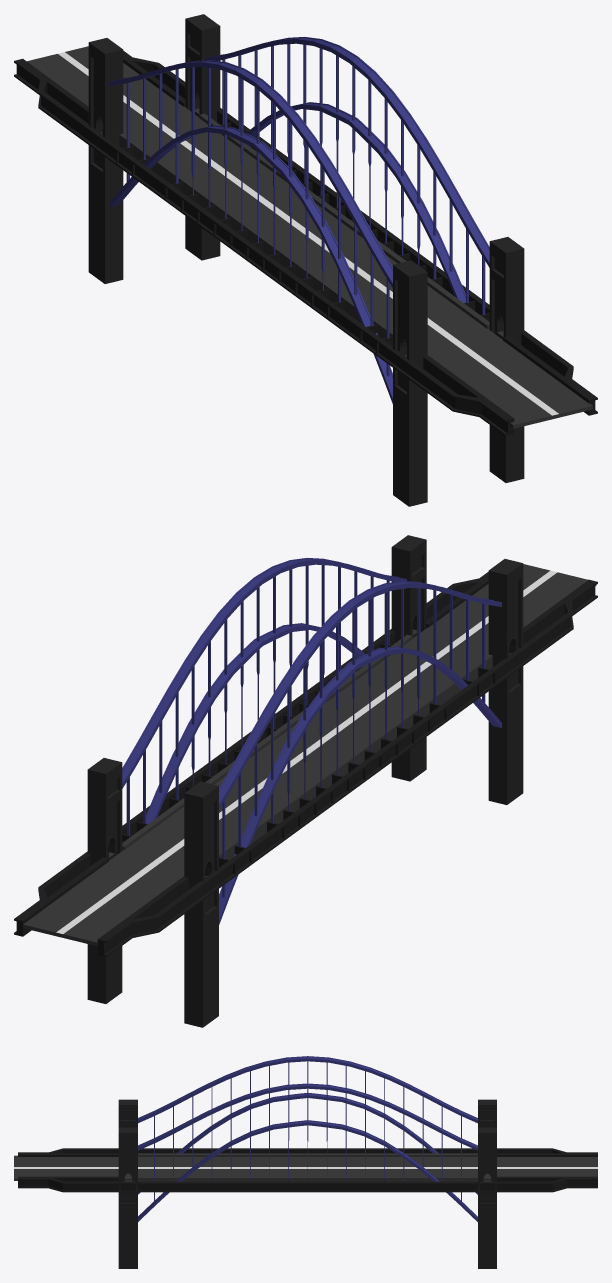
Rendered from bridge_2.fbx.
The picture shows the model from 3 angles, top to bottom: view 1: azimuth 30°, elevation 25°; view 2: azimuth 150°, elevation 25°; view 3: azimuth 270°, elevation 25°; orthographic projection. The views are drawn at different scales.
Parts seen in each view (by area): view 1: polySurface2093, polySurface2097, polySurface1775, polySurface2138, polySurface2098, polySurface2094, polySurface2106, polySurface2218, polySurface2090, polySurface2214, polySurface2217, polySurface2089 (+43 smaller); view 2: polySurface2097, polySurface2093, polySurface1775, polySurface2106, polySurface2094, polySurface2098, polySurface2138, polySurface2102, polySurface2214, polySurface2205, polySurface2101, polySurface2209 (+43 smaller); view 3: polySurface1774, polySurface2089, polySurface1775, polySurface2101, polySurface2143, polySurface2173, polySurface2148, polySurface2090, polySurface2102, polySurface2167, polySurface2205, polySurface2153 (+33 smaller).
Boxes of the visible parts, left/top/right/bottom form: polySurface2093: left=393, top=385, right=427, bottom=506; polySurface2097: left=88, top=162, right=123, bottom=283; polySurface1775: left=119, top=133, right=392, bottom=338; polySurface2138: left=392, top=350, right=487, bottom=416; polySurface2098: left=88, top=78, right=123, bottom=173; polySurface2094: left=393, top=301, right=427, bottom=396; polySurface2106: left=38, top=78, right=108, bottom=155; polySurface2218: left=461, top=335, right=547, bottom=382; polySurface2090: left=489, top=277, right=524, bottom=344; polySurface2214: left=427, top=288, right=496, bottom=344; polySurface2217: left=427, top=344, right=511, bottom=391; polySurface2089: left=489, top=425, right=524, bottom=482; polySurface2097: left=184, top=906, right=218, bottom=1027; polySurface2093: left=488, top=683, right=523, bottom=804; polySurface1775: left=219, top=654, right=492, bottom=859; polySurface2106: left=124, top=867, right=224, bottom=936; polySurface2094: left=488, top=599, right=523, bottom=694; polySurface2098: left=184, top=822, right=218, bottom=917; polySurface2138: left=509, top=599, right=573, bottom=672; polySurface2102: left=87, top=798, right=122, bottom=865; polySurface2214: left=356, top=632, right=457, bottom=689; polySurface2205: left=284, top=728, right=373, bottom=777; polySurface2101: left=87, top=944, right=122, bottom=1003; polySurface2209: left=339, top=689, right=427, bottom=736; polySurface1774: left=138, top=1176, right=477, bottom=1181; polySurface2089: left=118, top=1203, right=137, bottom=1268; polySurface1775: left=138, top=1153, right=477, bottom=1156; polySurface2101: left=478, top=1203, right=496, bottom=1268; polySurface2143: left=49, top=1176, right=140, bottom=1192; polySurface2173: left=487, top=1176, right=565, bottom=1192; polySurface2148: left=141, top=1181, right=221, bottom=1192; polySurface2090: left=118, top=1153, right=137, bottom=1203; polySurface2102: left=478, top=1153, right=496, bottom=1203; polySurface2167: left=392, top=1181, right=452, bottom=1192; polySurface2205: left=267, top=1157, right=332, bottom=1167; polySurface2153: left=222, top=1181, right=280, bottom=1192.
Bounding box in the file's own units: 104 × 253 × 739.
